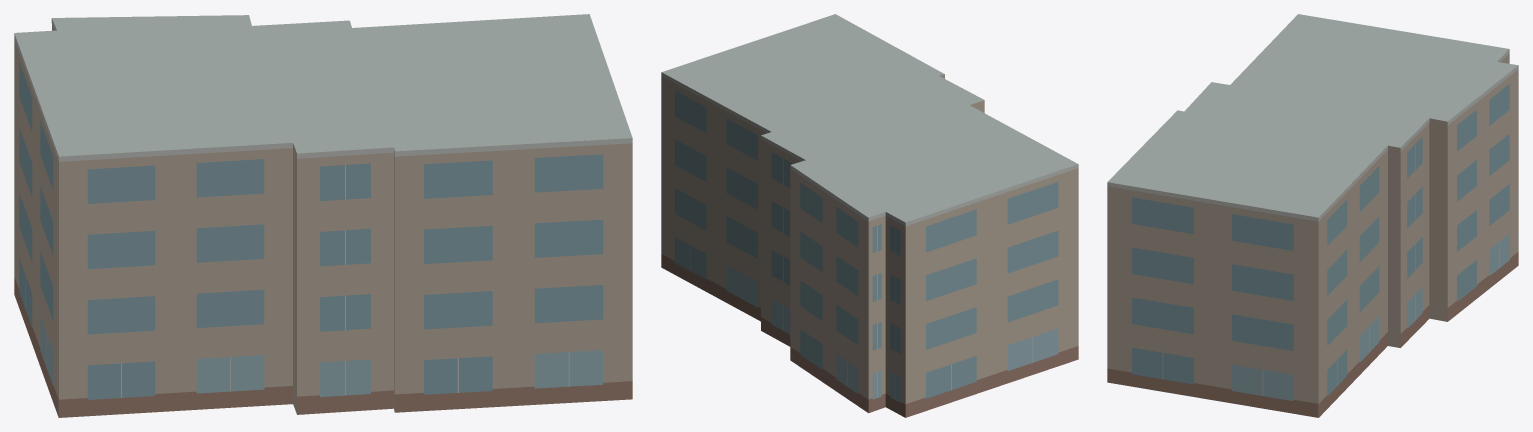
Rendered from survey-upis-32698425.glb.
3 renders of one model, left to right at view 1: azimuth 30°, elevation 25°; view 2: azimuth 150°, elevation 25°; view 3: azimuth 270°, elevation 25°, orthographic. The views are drawn at different scales.
Visible parts, largest first — view 1: survey-upis-32698425.tmp; view 2: survey-upis-32698425.tmp; view 3: survey-upis-32698425.tmp.
Part boxes in pixels (<box>): survey-upis-32698425.tmp: <box>14,14,632,417</box>; survey-upis-32698425.tmp: <box>661,14,1078,417</box>; survey-upis-32698425.tmp: <box>1107,14,1518,417</box>.
Bounding box in the file's own units: 26.61 × 12.2 × 22.72.
